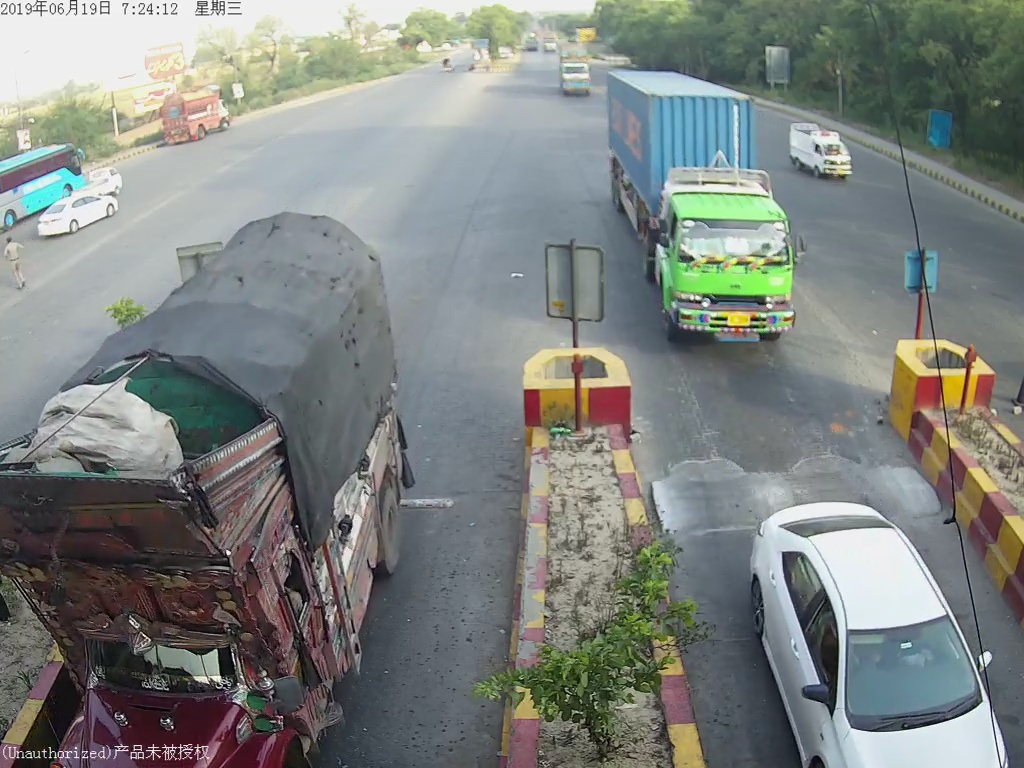Cat-1: (736, 479, 1010, 768)
Cat-4: (1, 200, 427, 740)
Cat-5: (607, 69, 815, 345)
